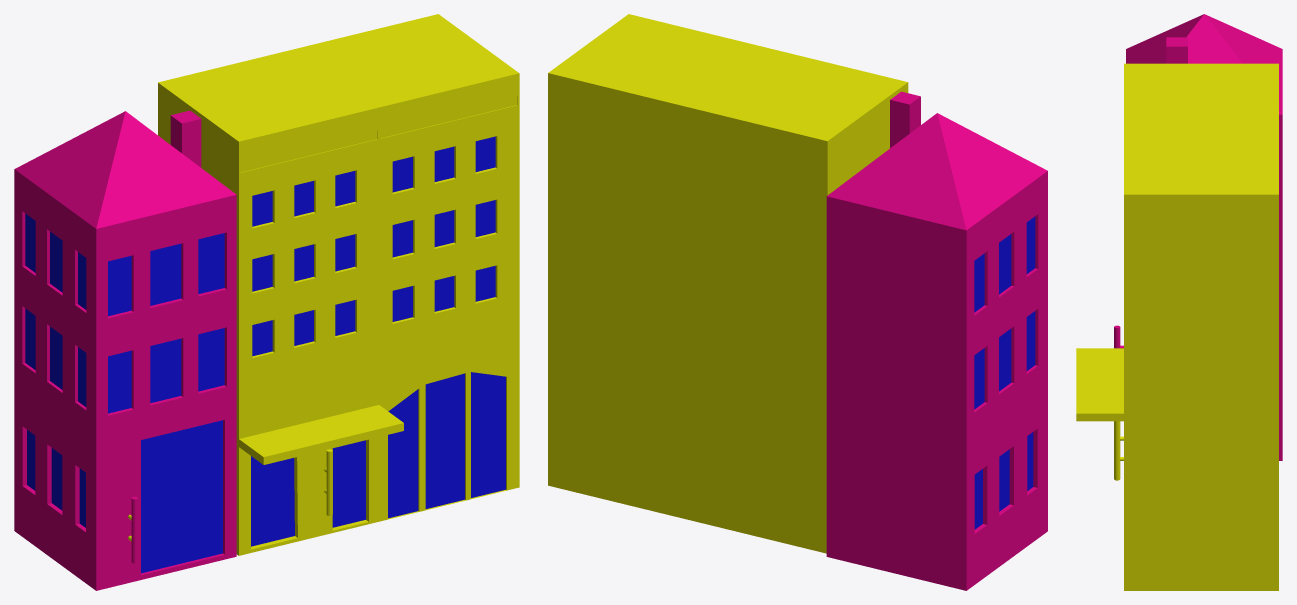
Rendered from huis 1.fbx.
3 renders of one model, left to right at view 1: azimuth 30°, elevation 25°; view 2: azimuth 150°, elevation 25°; view 3: azimuth 270°, elevation 25°, orthographic. The views are drawn at different scales.
Visible parts, largest first — view 1: Object; view 2: Object; view 3: Object.
Boxes of the visible parts, x1,y1,x2,y2 form: Object: [14, 14, 519, 590]; Object: [548, 14, 1047, 590]; Object: [1076, 14, 1282, 590].
Size of the model in its own units: 714 by 700 by 316.
